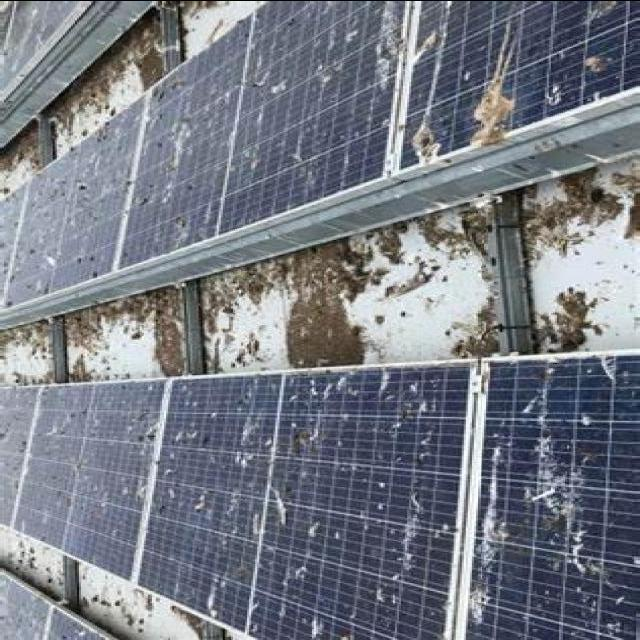soiled: (2, 2, 636, 314), (6, 364, 640, 640)
